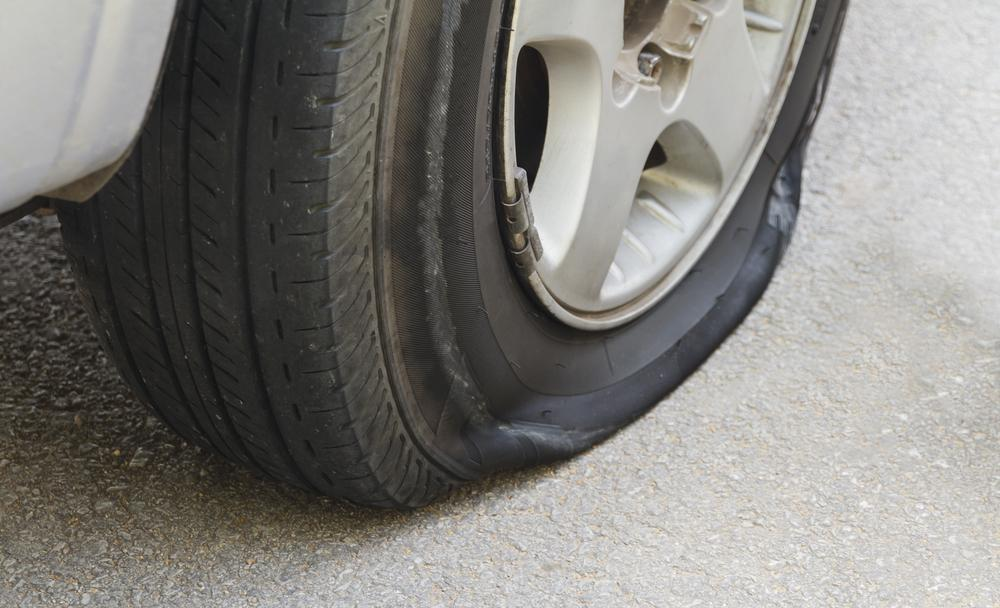tire flat: (52, 0, 850, 509)
